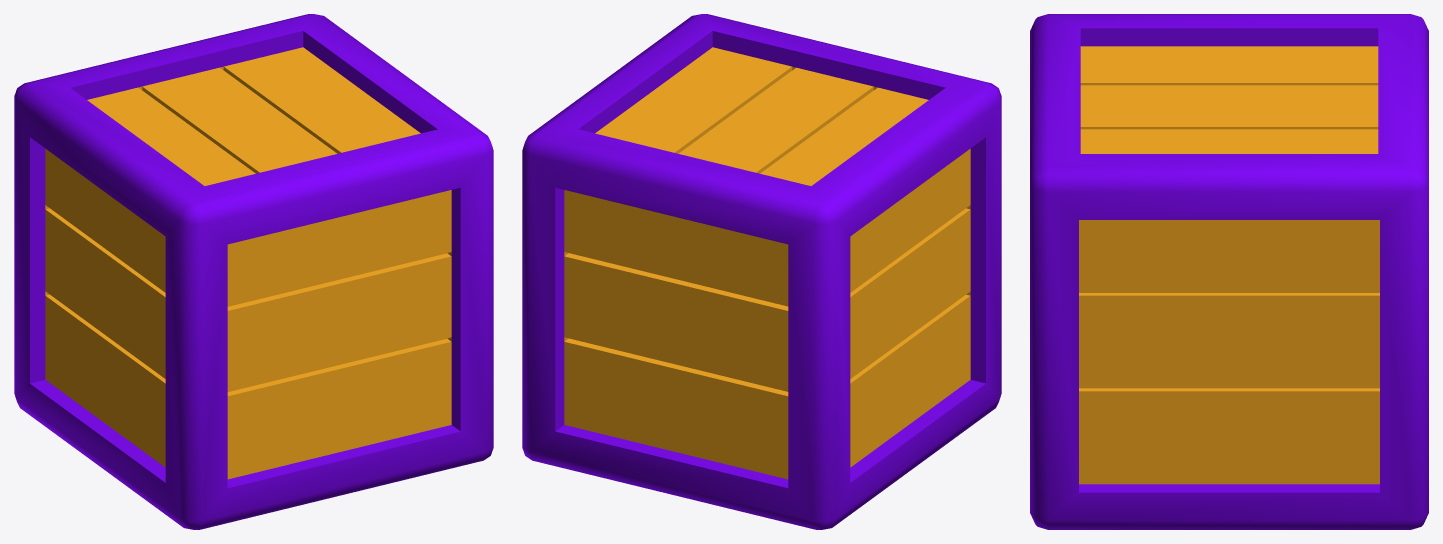
The model's file is Crate_01.fbx.
3 views of the same model, side by side, from view 1: azimuth 30°, elevation 25°; view 2: azimuth 150°, elevation 25°; view 3: azimuth 270°, elevation 25° (orthographic). The views are drawn at different scales.
Parts seen in each view (by area): view 1: Obstacle_Crate_01; view 2: Obstacle_Crate_01; view 3: Obstacle_Crate_01.
Part boxes in pixels (x1,y1,x2,y2): Obstacle_Crate_01: [14, 14, 493, 529]; Obstacle_Crate_01: [522, 14, 1001, 529]; Obstacle_Crate_01: [1030, 14, 1428, 529].
Bounding box in the file's own units: 50 × 50 × 50.
Materials: 1 (1 with a texture image).
